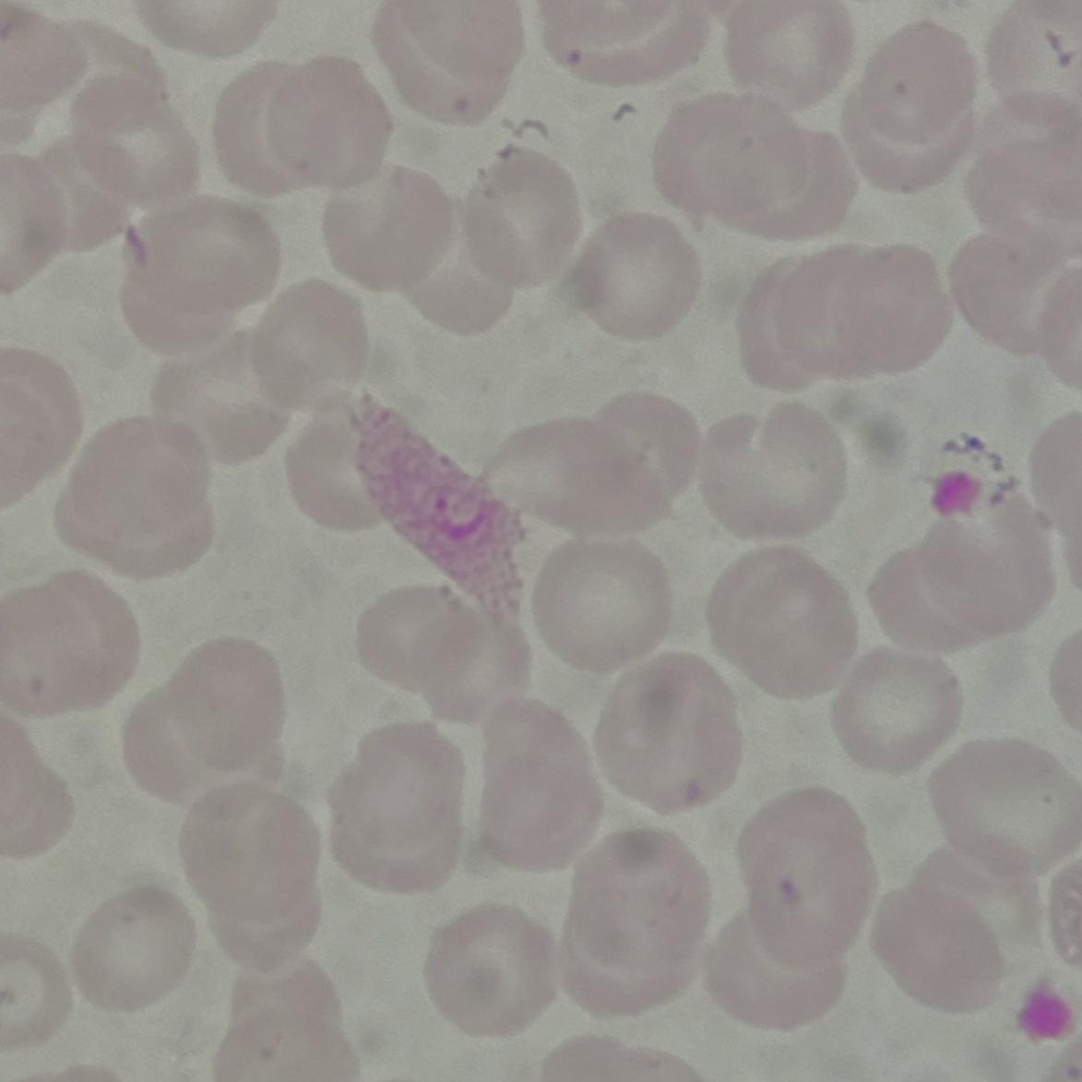Infected: (344, 382, 529, 614)
Uninfected: (651, 93, 852, 244), (742, 244, 946, 389), (559, 825, 717, 1012), (124, 637, 293, 805), (176, 779, 327, 967), (868, 503, 1049, 659), (480, 416, 685, 543), (61, 413, 230, 567), (217, 55, 394, 201), (326, 721, 473, 894), (117, 201, 280, 357), (355, 585, 532, 727), (589, 653, 745, 814), (731, 787, 874, 957), (841, 18, 978, 190), (925, 740, 1081, 886), (689, 401, 847, 545), (706, 548, 857, 697), (469, 699, 601, 869), (323, 165, 471, 313), (868, 854, 1005, 1012), (1, 567, 138, 722), (154, 324, 295, 465), (535, 530, 670, 672), (375, 2, 527, 126), (422, 904, 560, 1039), (564, 211, 703, 344), (65, 72, 197, 211), (283, 388, 408, 532), (949, 229, 1076, 369), (705, 909, 851, 1030), (258, 272, 385, 407), (71, 883, 198, 1011), (463, 149, 578, 290), (214, 963, 355, 1078), (536, 2, 714, 92), (830, 649, 960, 772), (725, 1, 858, 109), (963, 121, 1078, 245), (590, 388, 707, 508), (1, 347, 81, 513), (0, 706, 77, 856), (3, 5, 96, 128), (1, 149, 77, 296), (986, 0, 1082, 105), (1, 931, 71, 1045)
